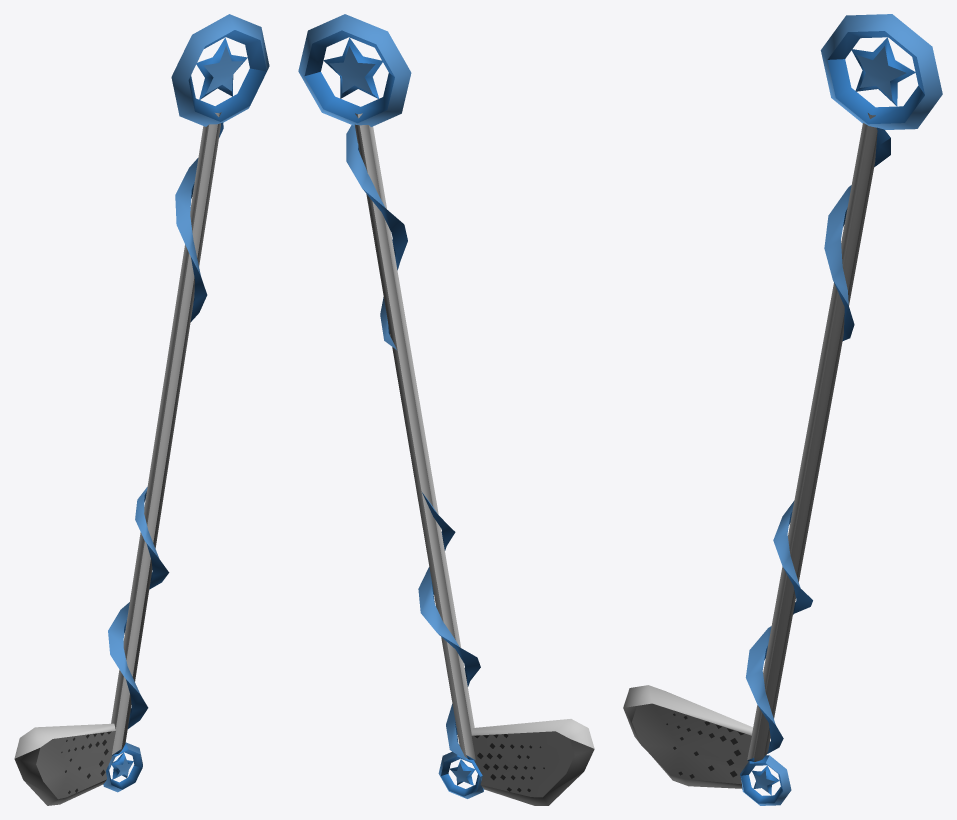
The model's file is golfClub2.glb.
3 views of the same model, side by side, from view 1: azimuth 30°, elevation 25°; view 2: azimuth 150°, elevation 25°; view 3: azimuth 330°, elevation 25° (orthographic). The views are drawn at different scales.
Visible parts, largest first — view 1: rainbow_club.002; view 2: rainbow_club.002; view 3: rainbow_club.002.
Part boxes in pixels (x1,y1,x2,y2): rainbow_club.002: [14, 14, 269, 805]; rainbow_club.002: [298, 14, 594, 805]; rainbow_club.002: [623, 14, 942, 805].
Bounding box in the file's own units: 0.4549 × 1.19 × 0.0979.
1 material, 1 textured.
